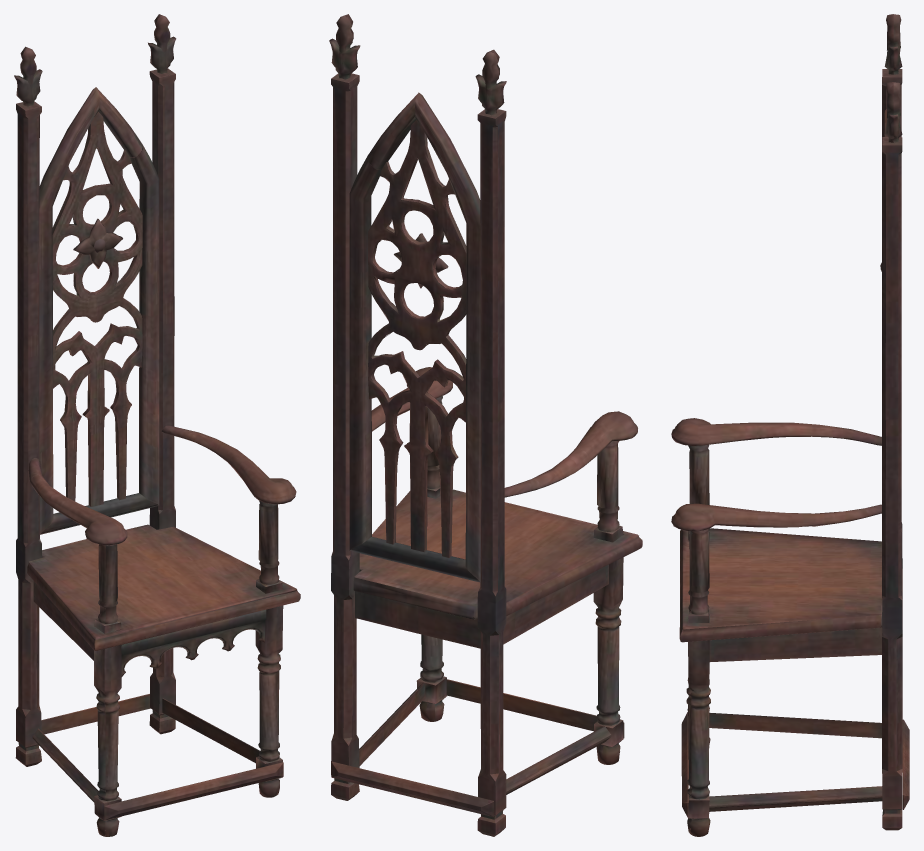
The model's file is WoodenChair_01.glb.
The picture shows the model from 3 angles, left to right: view 1: azimuth 30°, elevation 25°; view 2: azimuth 150°, elevation 25°; view 3: azimuth 270°, elevation 25°; orthographic projection. The views are drawn at different scales.
Parts seen in each view (by area): view 1: WoodenChair_01; view 2: WoodenChair_01; view 3: WoodenChair_01.
Boxes of the visible parts, x1,y1,x2,y2 form: WoodenChair_01: (14,14,300,836); WoodenChair_01: (329,14,642,836); WoodenChair_01: (671,14,909,836).
Size of the model in its own units: 0.6886 by 2.27 by 0.6585.
Materials: 1 (1 with a texture image).
